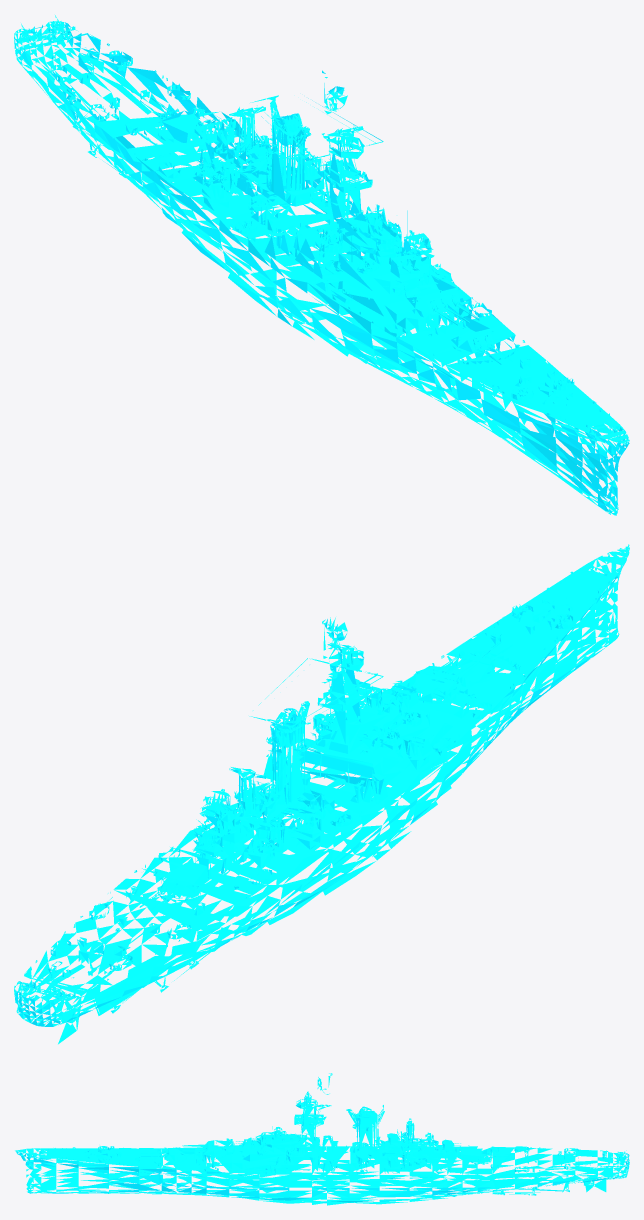
Rendered from PASC528.glb.
3 views of the same model, one above another, from view 1: azimuth 30°, elevation 25°; view 2: azimuth 150°, elevation 25°; view 3: azimuth 270°, elevation 25° (orthographic). The views are drawn at different scales.
Visible parts, largest first — view 1: hull, turret; view 2: hull, turret; view 3: hull, turret.
Boxes of the visible parts, bbox=[...] form: hull: bbox=[14, 21, 629, 515]; turret: bbox=[19, 15, 568, 396]; hull: bbox=[14, 544, 629, 1044]; turret: bbox=[20, 604, 568, 999]; hull: bbox=[15, 1073, 629, 1205]; turret: bbox=[101, 1133, 626, 1172].
Bounding box in the file's own units: 1.83 × 3.53 × 16.43.
